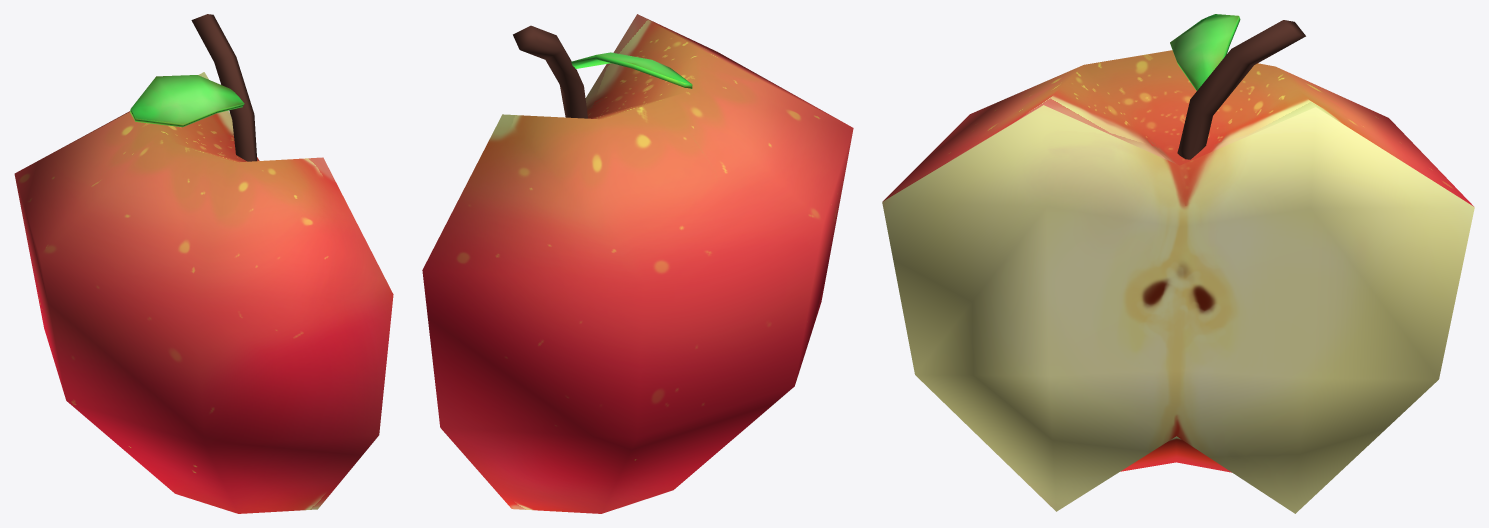
File: half-apple.fbx
The picture shows the model from 3 angles, left to right: view 1: azimuth 30°, elevation 25°; view 2: azimuth 150°, elevation 25°; view 3: azimuth 270°, elevation 25°; orthographic projection. The views are drawn at different scales.
Parts seen in each view (by area): view 1: half-apple; view 2: half-apple; view 3: half-apple.
Part boxes in pixels (bbox=[...]): half-apple: bbox=[14, 14, 393, 513]; half-apple: bbox=[422, 14, 853, 513]; half-apple: bbox=[882, 14, 1474, 513].
Size of the model in its own units: 0.7313 by 1.32 by 1.46.
